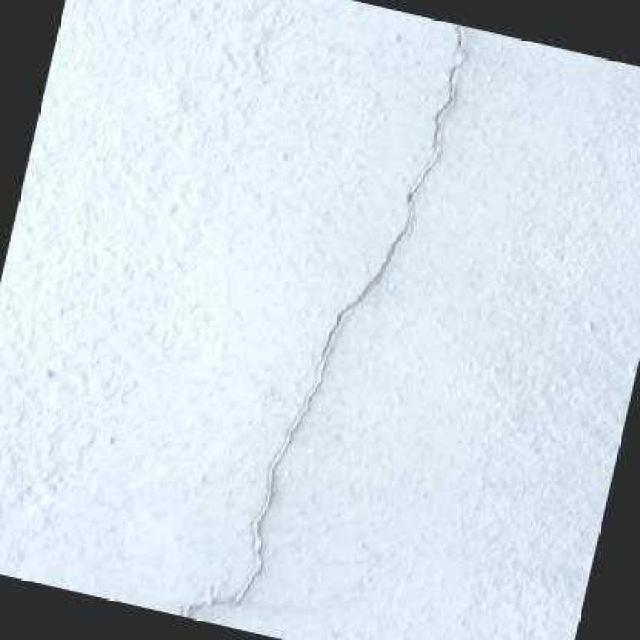D00: (182, 161, 437, 619), (432, 23, 463, 157)
